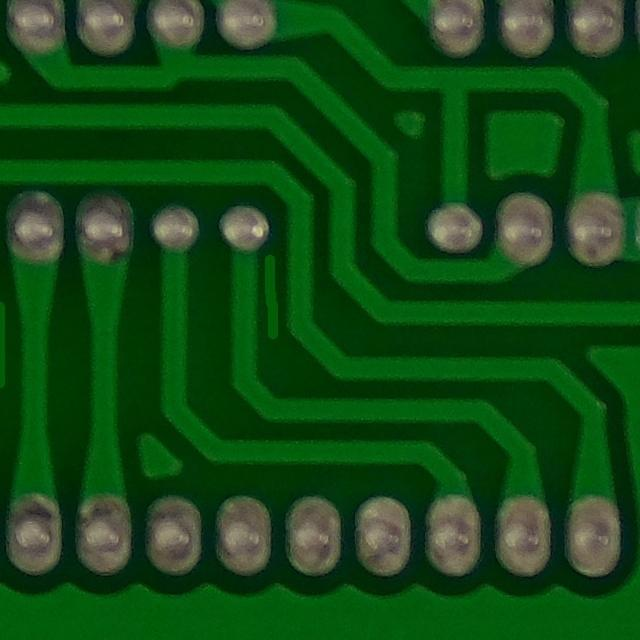spurious_copper: (253, 249, 298, 351)
